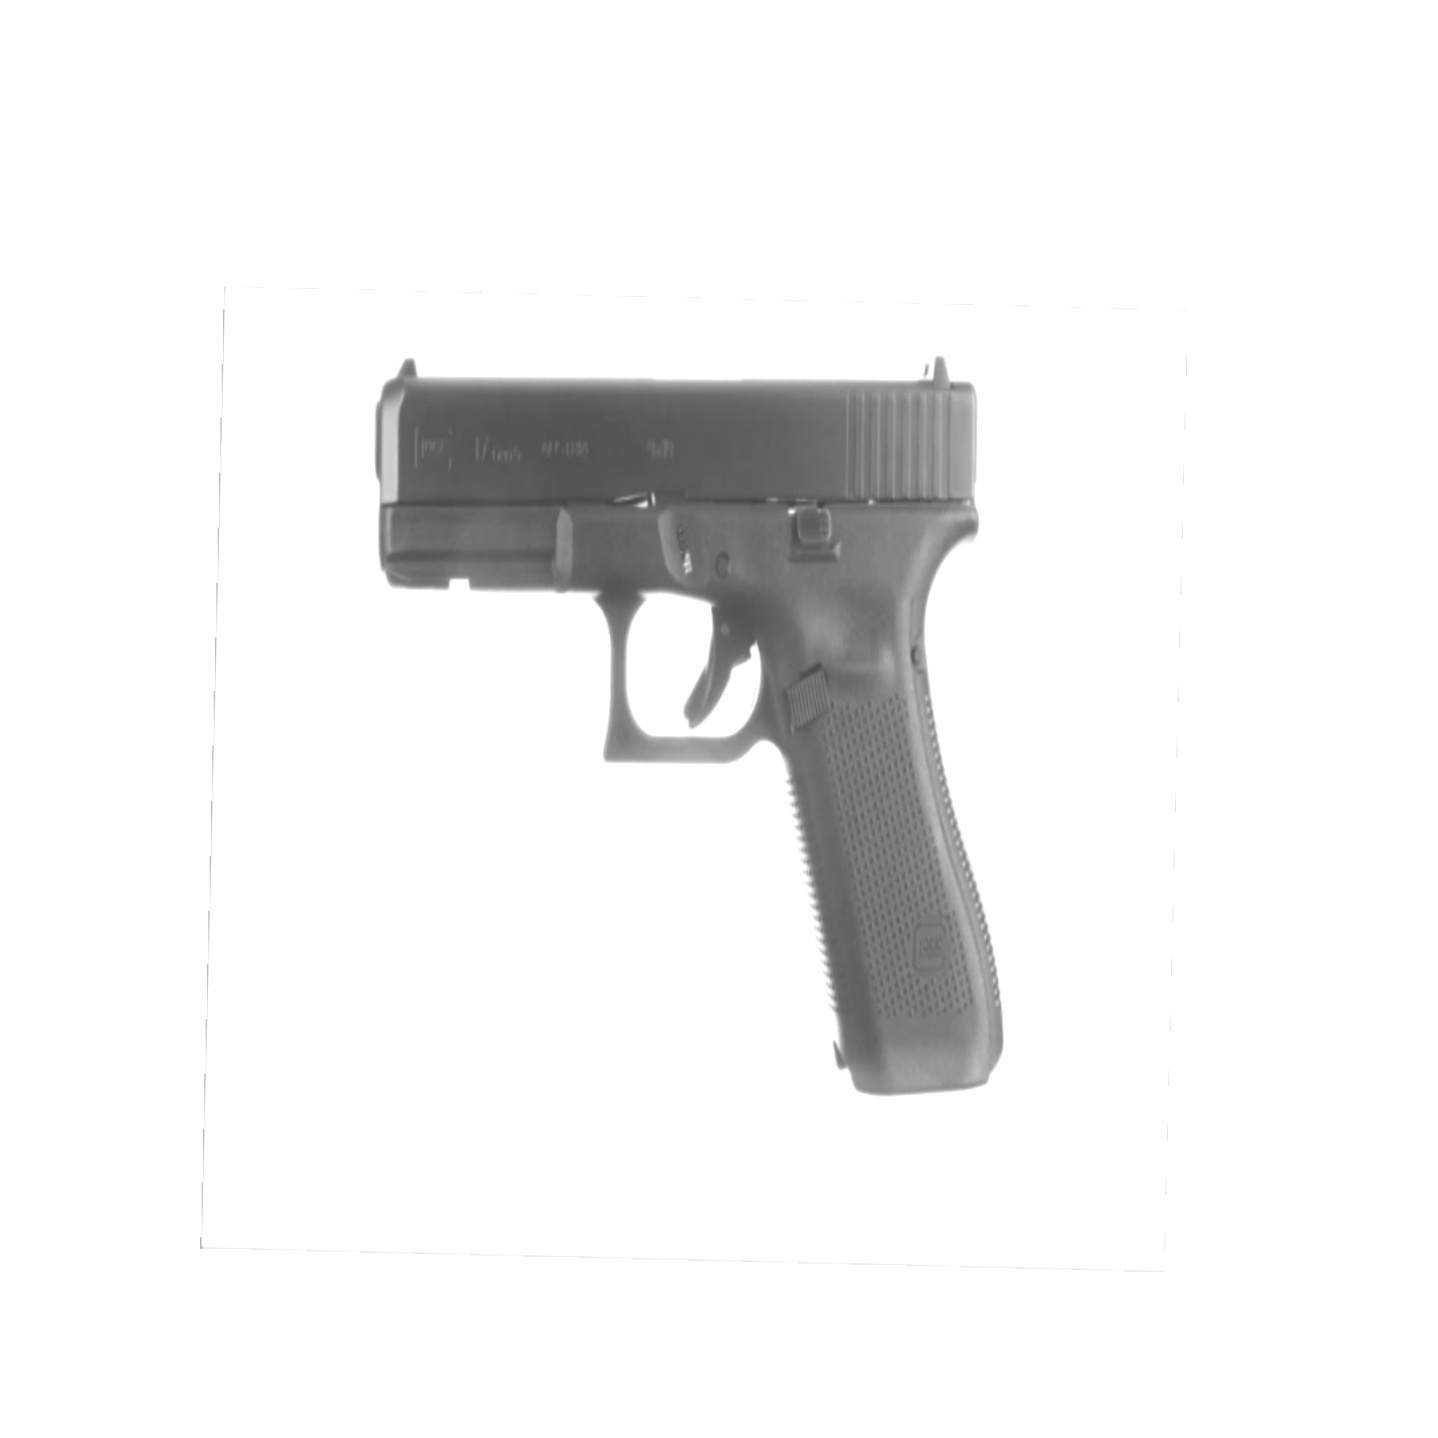gun: (357, 340, 1025, 1101)
